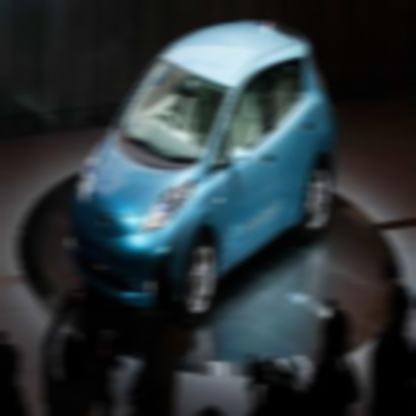Vehicle: (68, 15, 339, 332)
